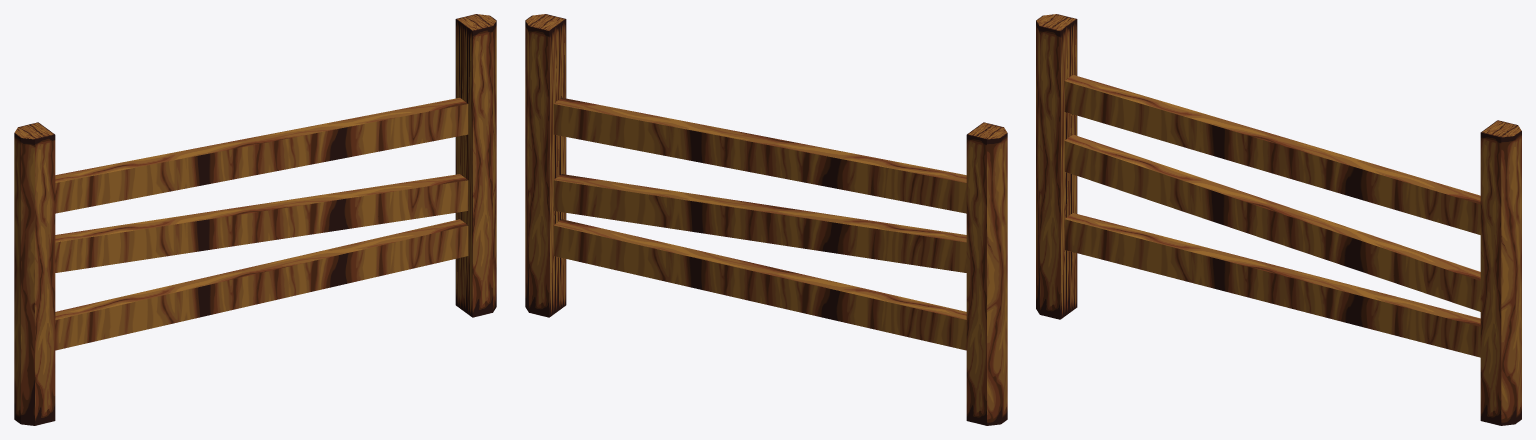
File: fence.FBX
3 renders of one model, left to right at view 1: azimuth 30°, elevation 25°; view 2: azimuth 150°, elevation 25°; view 3: azimuth 330°, elevation 25°, orthographic.
Visible parts, largest first — view 1: Box002; view 2: Box002; view 3: Box002.
Boxes of the visible parts, x1,y1,x2,y2 form: Box002: [14, 14, 496, 425]; Box002: [525, 14, 1007, 425]; Box002: [1036, 14, 1521, 425].
Size of the model in its own units: 10.78 by 6.23 by 0.661.
Materials: 1 (1 with a texture image).
